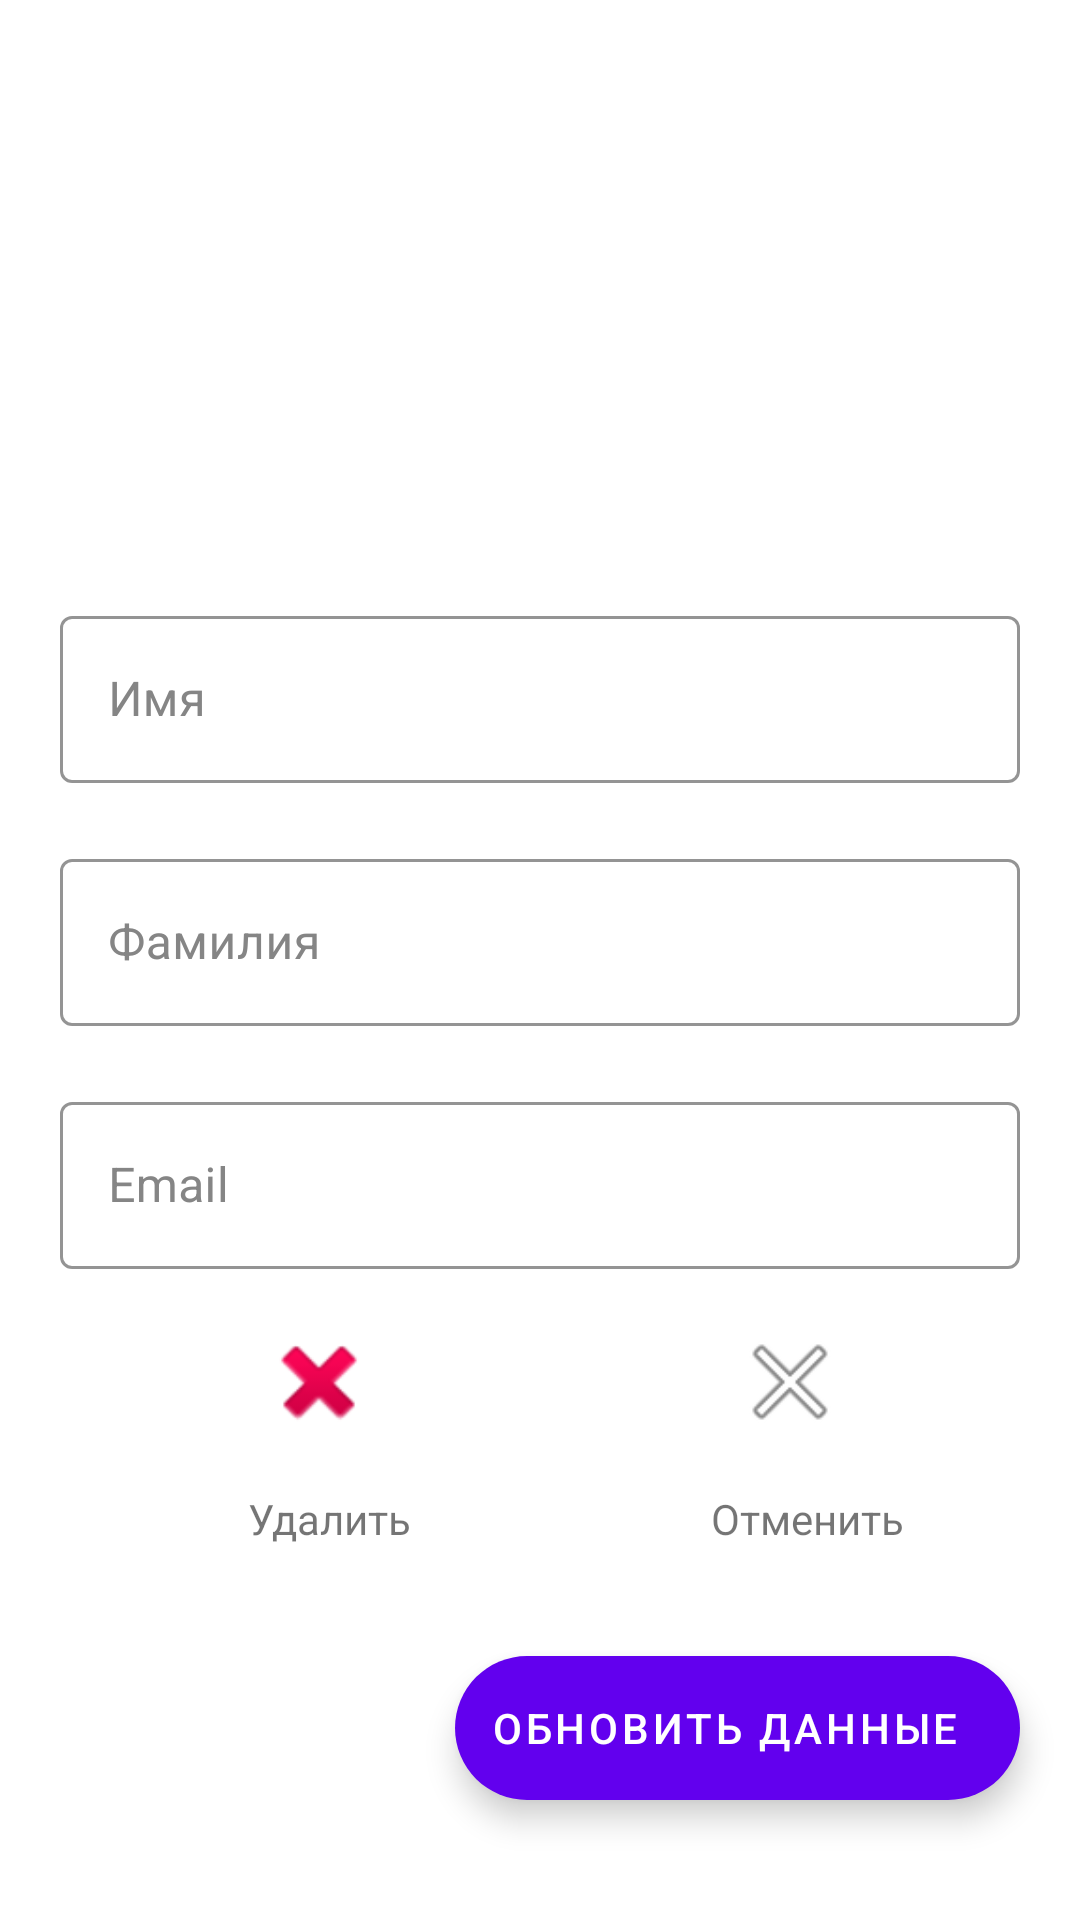

Icon click points for this 1080*1920 phone screenshot, format point (x, y):
close clear cancel: point (790, 1382)
delete: point (319, 1383)
